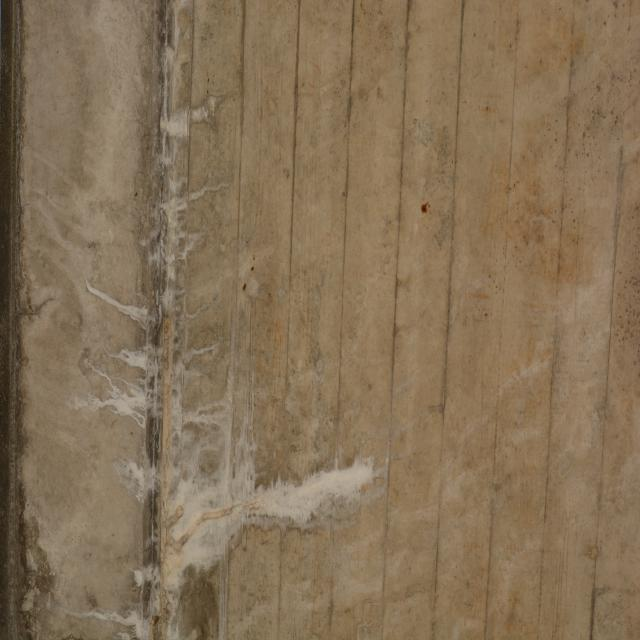corrosion: (150, 314, 240, 640), (239, 228, 291, 400), (418, 196, 438, 221)
